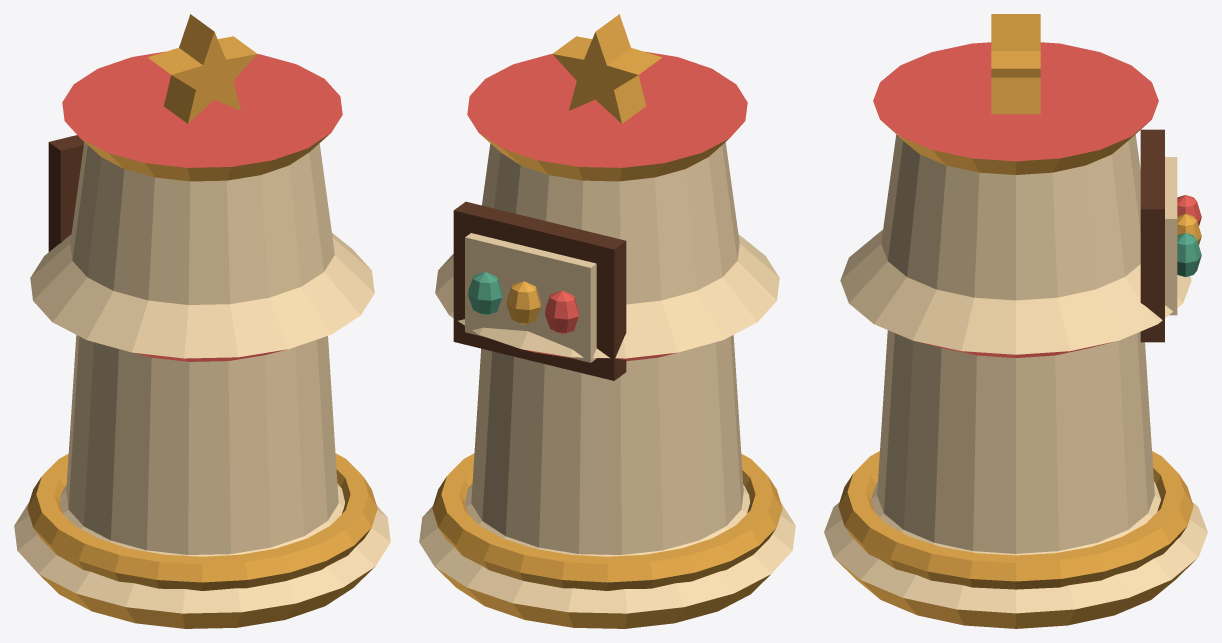
Rendered from ParkParkRepairConsole.obj.
3 views of the same model, side by side, from view 1: azimuth 30°, elevation 25°; view 2: azimuth 150°, elevation 25°; view 3: azimuth 270°, elevation 25° (orthographic).
Visible parts, largest first — view 1: ParkParkRepairConsole; view 2: ParkParkRepairConsole; view 3: ParkParkRepairConsole.
Part boxes in pixels (<box>): ParkParkRepairConsole: <box>14,14,390,628</box>; ParkParkRepairConsole: <box>419,14,795,628</box>; ParkParkRepairConsole: <box>824,14,1207,628</box>.
Bounding box in the file's own units: 1.88 × 2.94 × 1.88.
5 materials, 5 textured.
